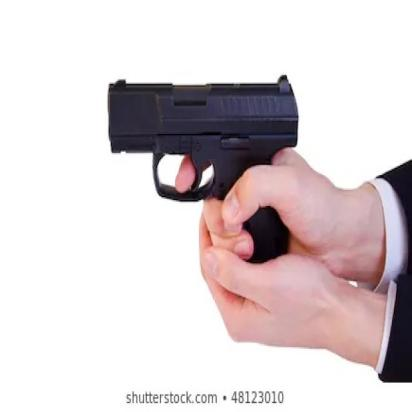Gun: (104, 69, 298, 272)
